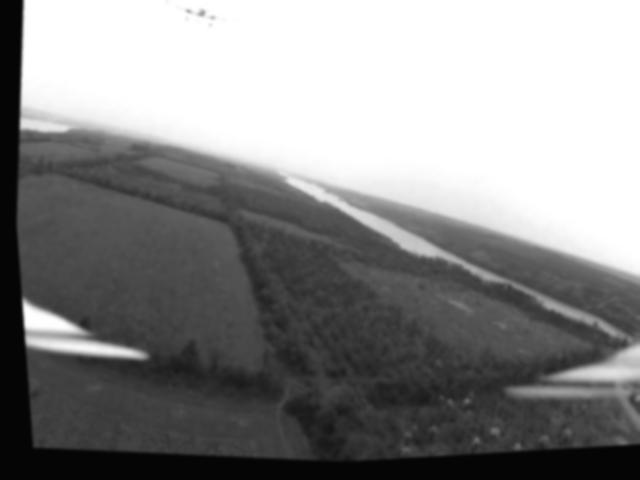hedef: (148, 0, 255, 44)
